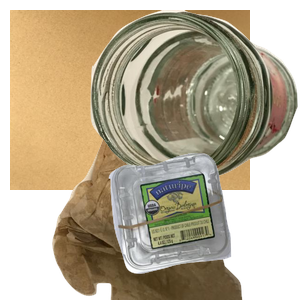cardboard: (10, 10, 250, 190)
glass: (90, 10, 300, 184)
plastic: (106, 151, 300, 300)
trash: (50, 120, 285, 300)
